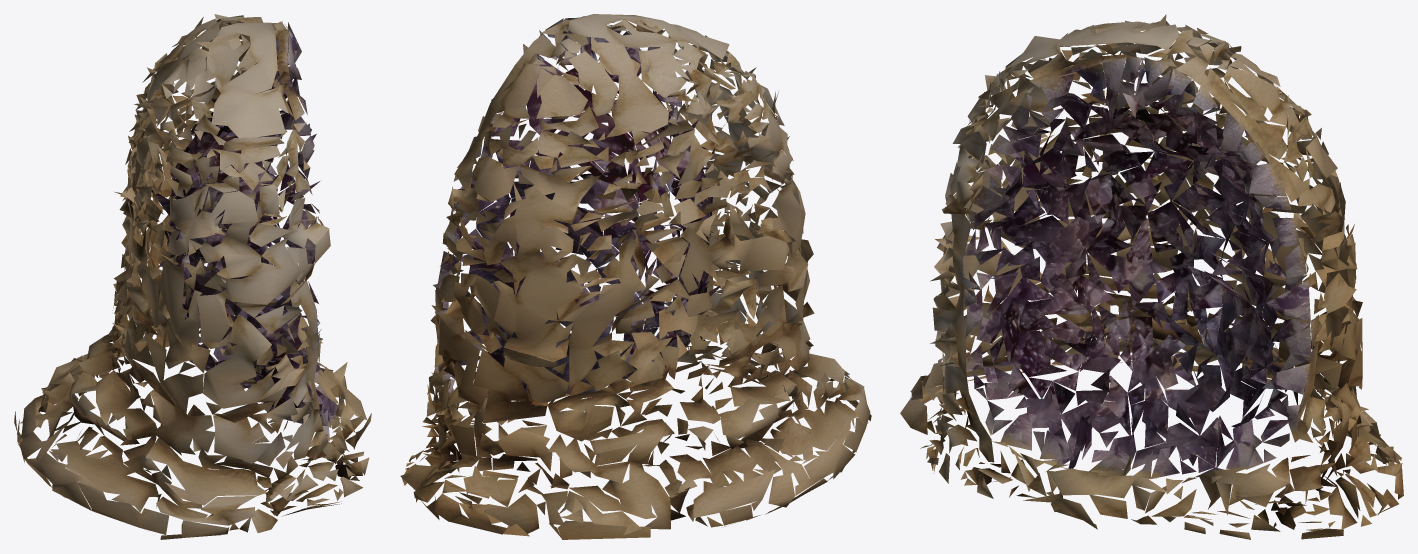
The model's file is ch10_geode_crystal_wall_LOD2.glb.
The picture shows the model from 3 angles, left to right: view 1: azimuth 30°, elevation 25°; view 2: azimuth 150°, elevation 25°; view 3: azimuth 270°, elevation 25°; orthographic projection. The views are drawn at different scales.
Parts seen in each view (by area): view 1: tripo_node_a2872151-7de7-4f96-a33a-80caff468798; view 2: tripo_node_a2872151-7de7-4f96-a33a-80caff468798; view 3: tripo_node_a2872151-7de7-4f96-a33a-80caff468798.
Boxes of the visible parts, x1,y1,x2,y2 form: tripo_node_a2872151-7de7-4f96-a33a-80caff468798: (14, 14, 371, 539); tripo_node_a2872151-7de7-4f96-a33a-80caff468798: (400, 14, 871, 539); tripo_node_a2872151-7de7-4f96-a33a-80caff468798: (900, 14, 1403, 539).
Bounding box in the file's own units: 0.831 × 1 × 1.01.
Materials: 1 (1 with a texture image).
